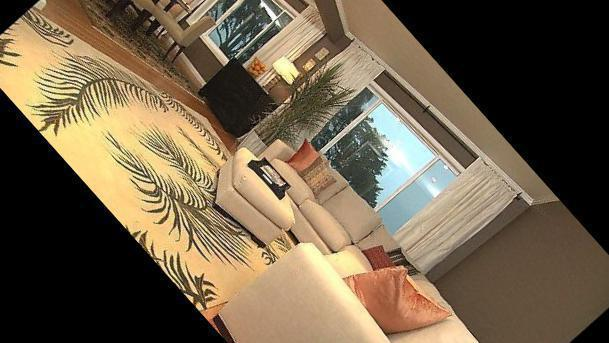Matera: (227, 49, 365, 181)
